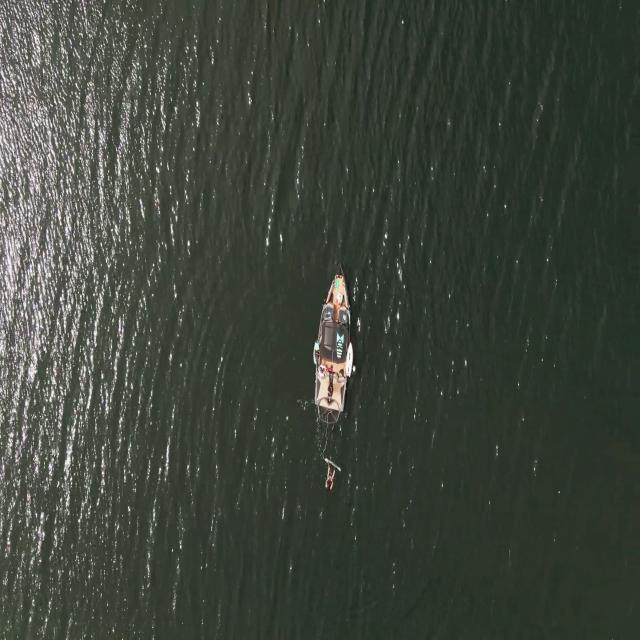ship: (314, 269, 352, 420), (343, 342, 356, 378)
